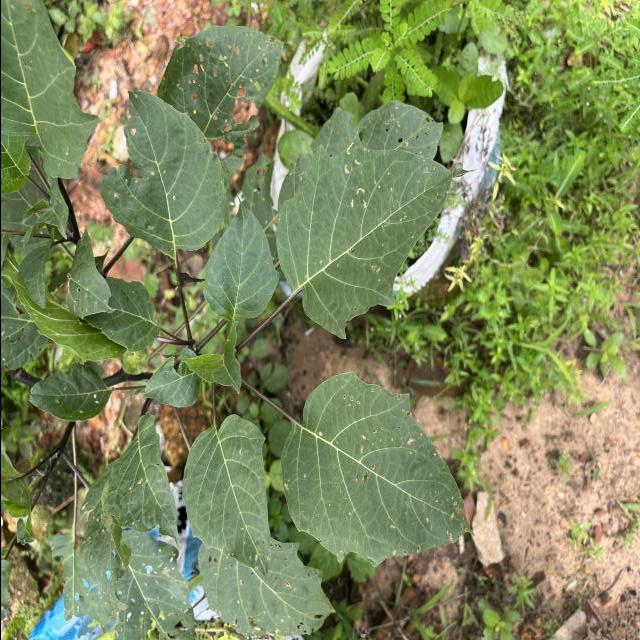Datura metal linn: (272, 134, 480, 342), (274, 364, 478, 570), (97, 88, 229, 262), (178, 412, 272, 584), (199, 191, 283, 324)
